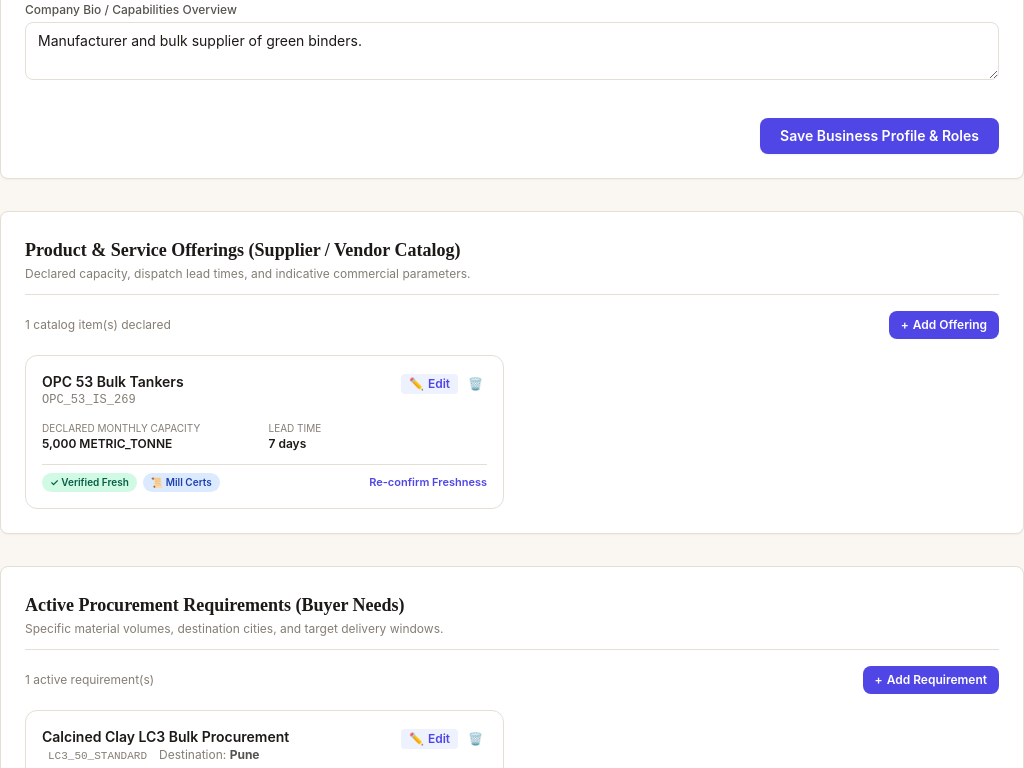
BusinessProfileSection Component › allows in-place editing of an existing catalog offering
Later steps or results of the test are not shown.
(page scrolled)
Click Edit on offering card
Click the button titled "Edit offering" in the row of "OPC 53 Bulk Tankers": (429, 384) [401,374,458,394]
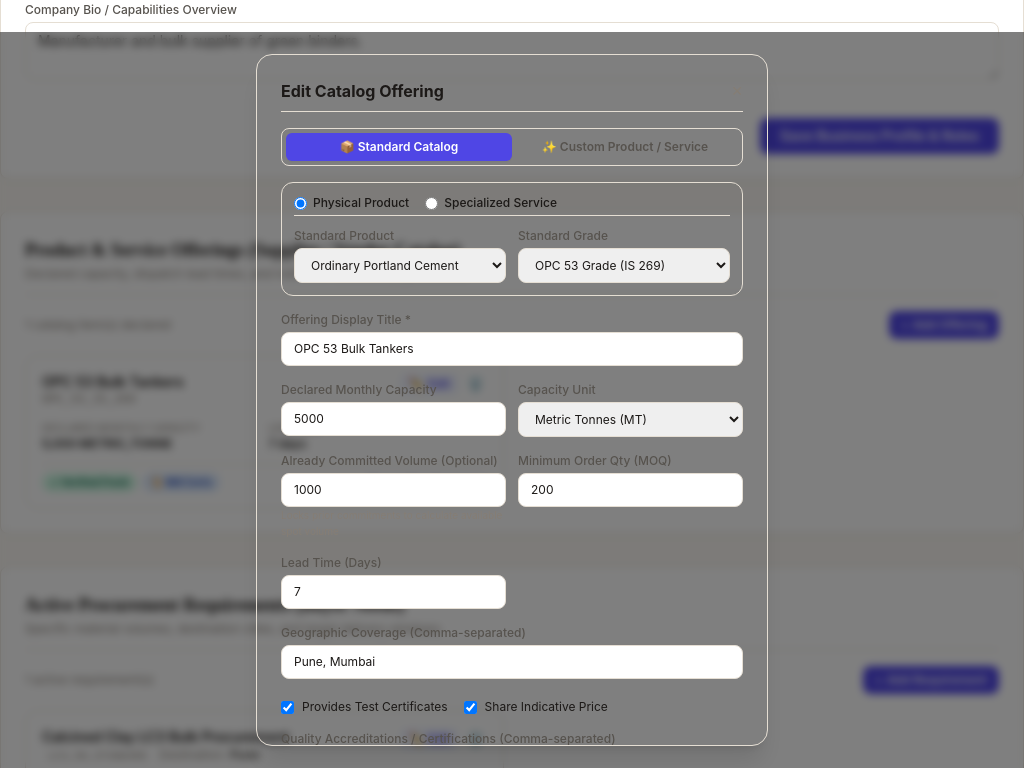
Expected: the heading "Edit Catalog Offering" is shown, [281,79,444,103]
